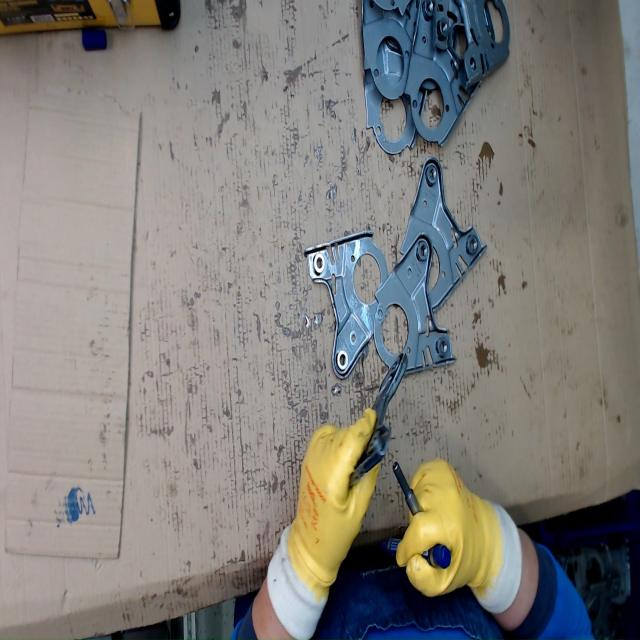hands: (290, 408, 382, 587), (395, 456, 503, 598)
